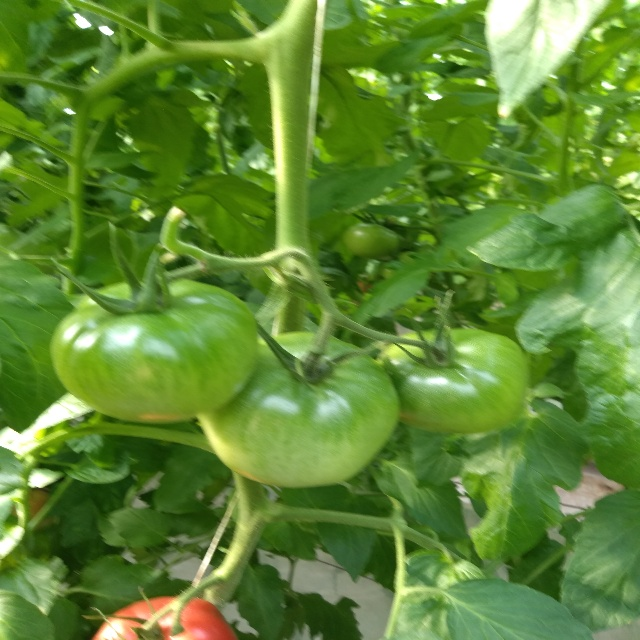b_fully_ripened: (92, 595, 237, 640)
b_green: (200, 330, 399, 488), (51, 276, 260, 426), (377, 329, 531, 434)
